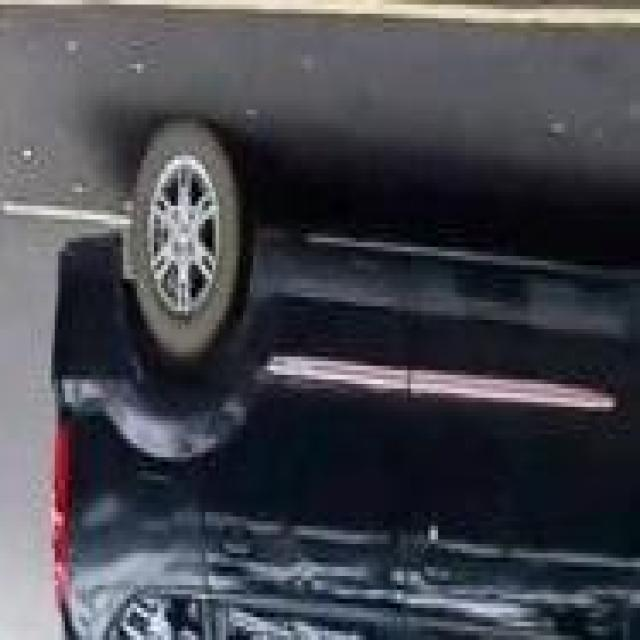Car: (57, 217, 640, 636)
